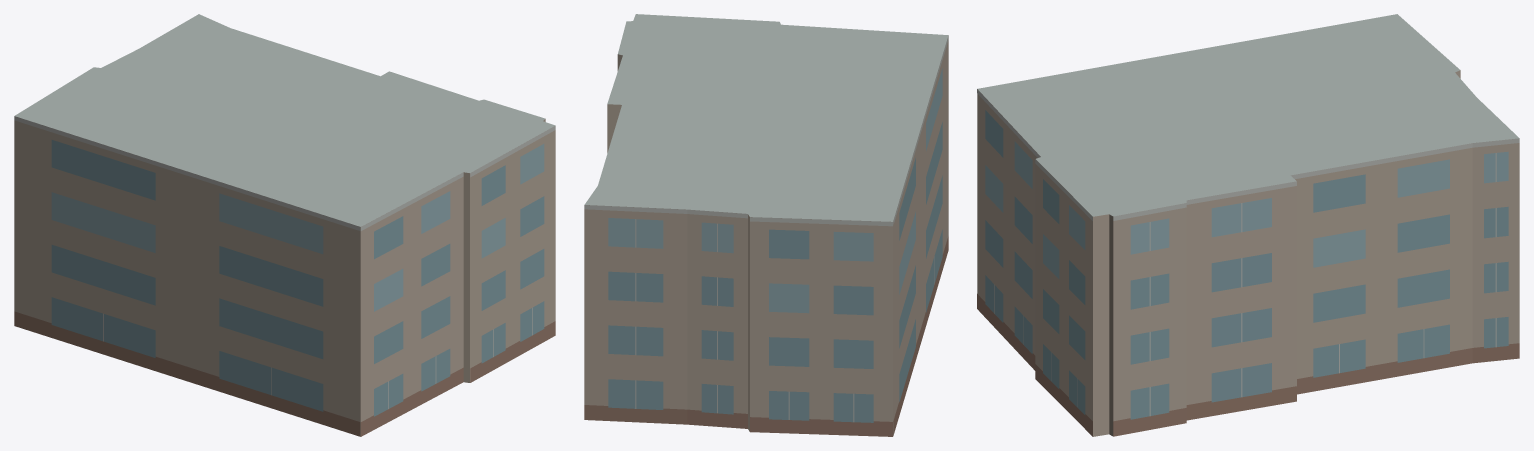
The model's file is survey-upis-32458343.glb.
3 renders of one model, left to right at view 1: azimuth 30°, elevation 25°; view 2: azimuth 150°, elevation 25°; view 3: azimuth 270°, elevation 25°, orthographic. The views are drawn at different scales.
Visible parts, largest first — view 1: survey-upis-32458343.tmp; view 2: survey-upis-32458343.tmp; view 3: survey-upis-32458343.tmp.
Boxes of the visible parts, x1,y1,x2,y2 form: survey-upis-32458343.tmp: [14, 14, 555, 436]; survey-upis-32458343.tmp: [584, 14, 948, 436]; survey-upis-32458343.tmp: [977, 14, 1519, 436].
Bounding box in the file's own units: 23.32 × 11.8 × 26.36.
